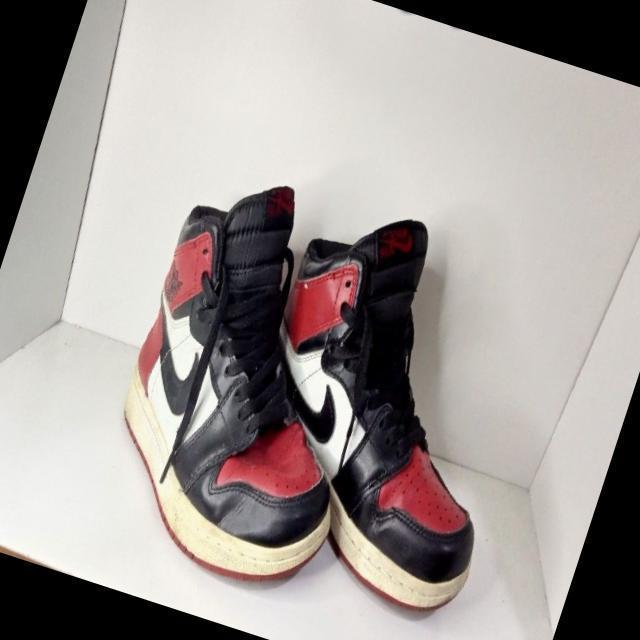nike fake jordan 1: (204, 185, 571, 630), (81, 157, 428, 604)
